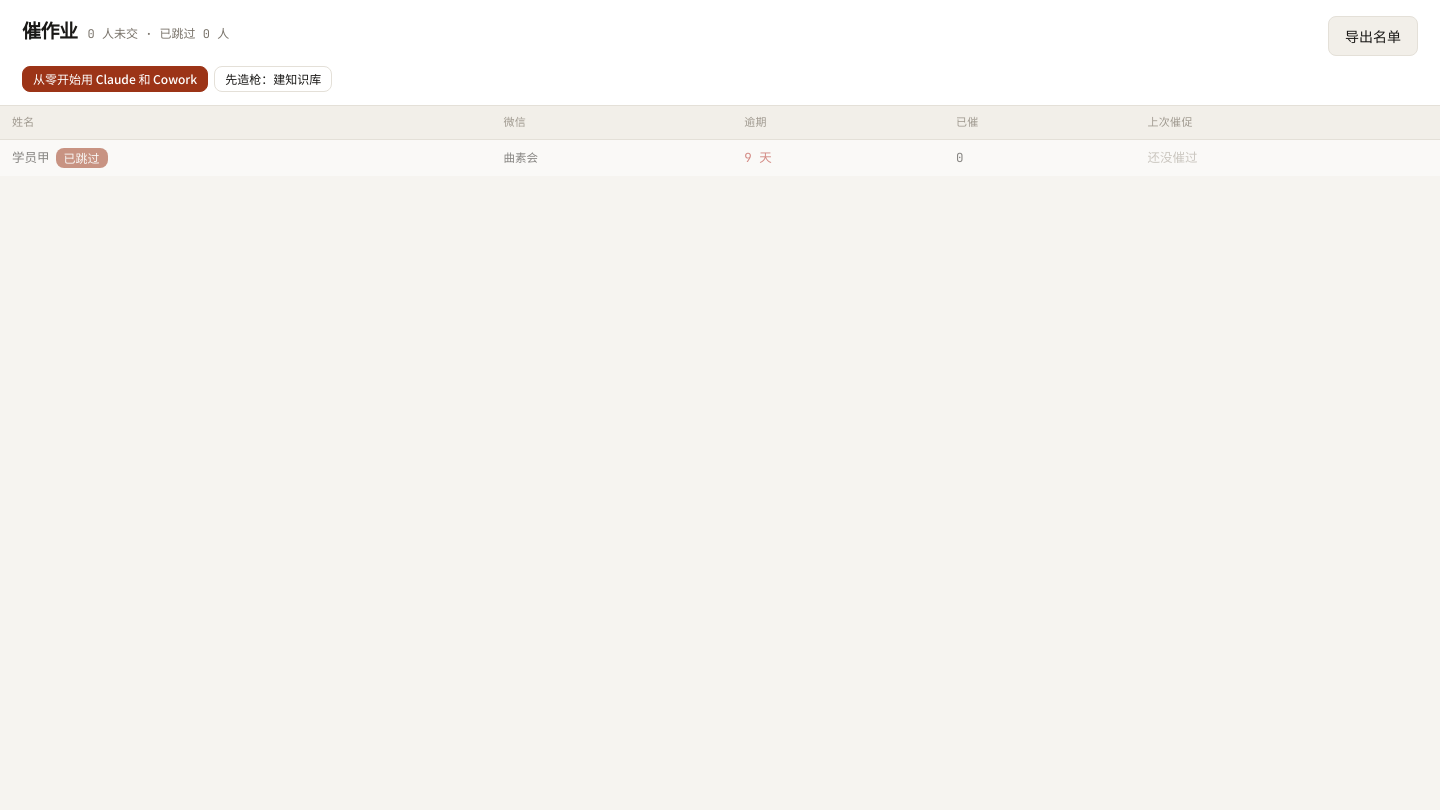
it: 已跳过的人 › 详情面板对已跳过的人显示取消跳过而不是跳过
Click the row with test id "nudge-alpha@example.com": coordinates (720, 157) x1=0 y1=139 x2=1439 y2=176
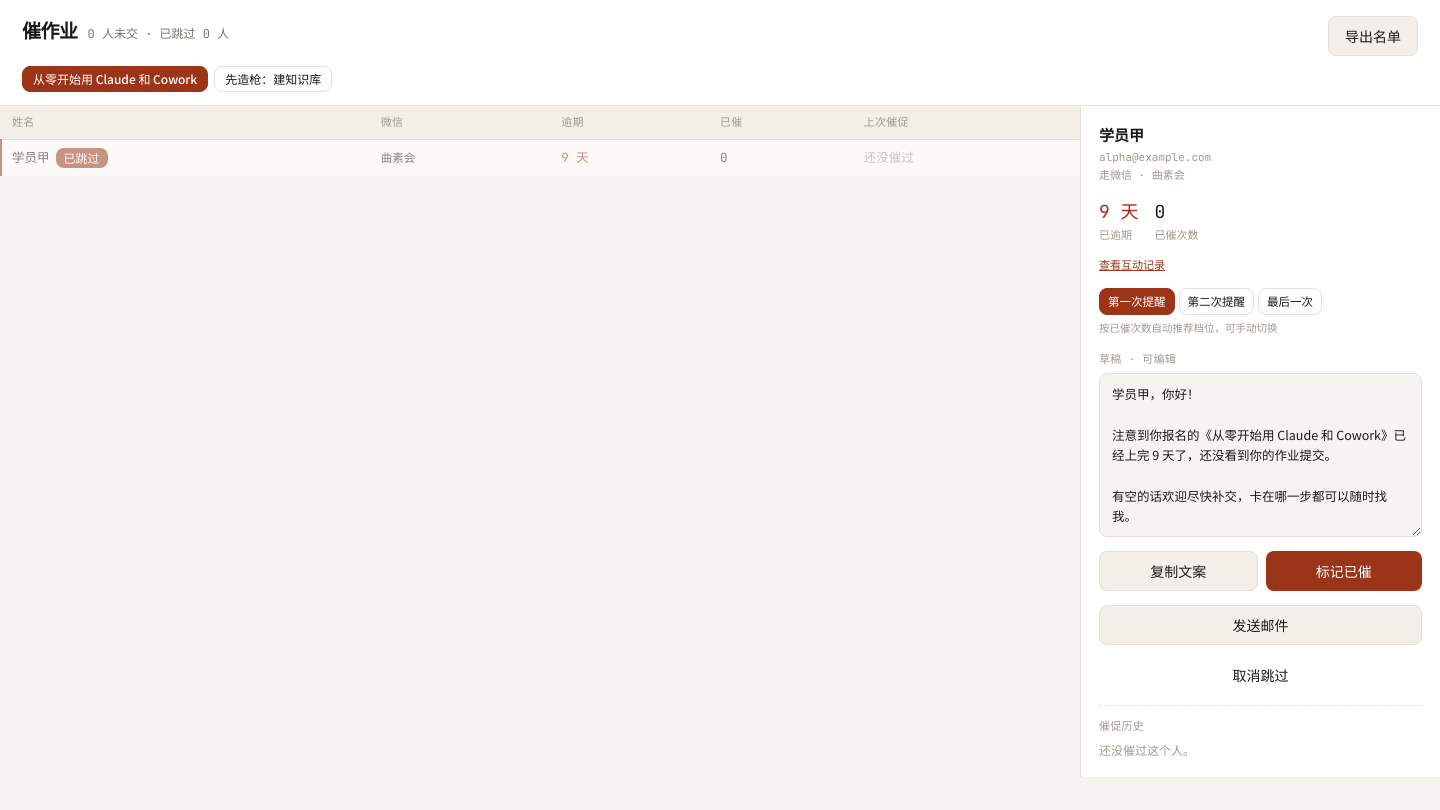
Expected: the button "取消跳过" is shown, x1=1099 y1=659 x2=1422 y2=691
